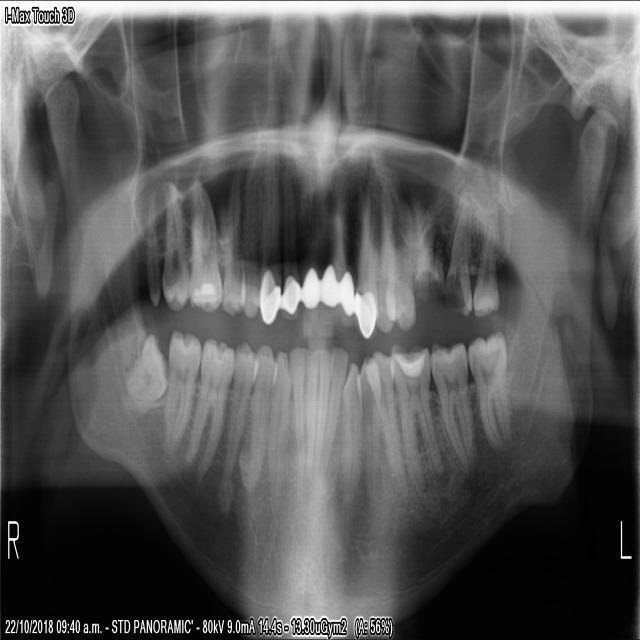LCD: (338, 356, 363, 496)
LCU: (373, 209, 394, 331)
LID: (318, 339, 350, 494), (314, 339, 329, 489)
LIU: (319, 205, 355, 325), (355, 208, 378, 340)
LMD: (388, 339, 445, 497), (461, 321, 518, 458), (427, 338, 477, 477)
LMU: (444, 203, 474, 320), (472, 213, 500, 319), (410, 218, 444, 290)
LPMD: (363, 349, 405, 497), (354, 348, 381, 497)
LPMU: (383, 208, 415, 333)
RCD: (265, 350, 291, 511)
RCU: (257, 180, 281, 328)
RID: (285, 340, 306, 481), (303, 335, 319, 481)
RIU: (280, 193, 302, 316), (299, 197, 320, 309)
RMD: (181, 335, 234, 482), (161, 322, 200, 463), (123, 320, 170, 420)
RMU: (163, 180, 186, 310), (142, 184, 158, 310)
RPMD: (216, 331, 254, 508), (238, 340, 277, 487)
RPMU: (185, 183, 222, 316), (221, 198, 246, 315), (239, 187, 259, 318)
